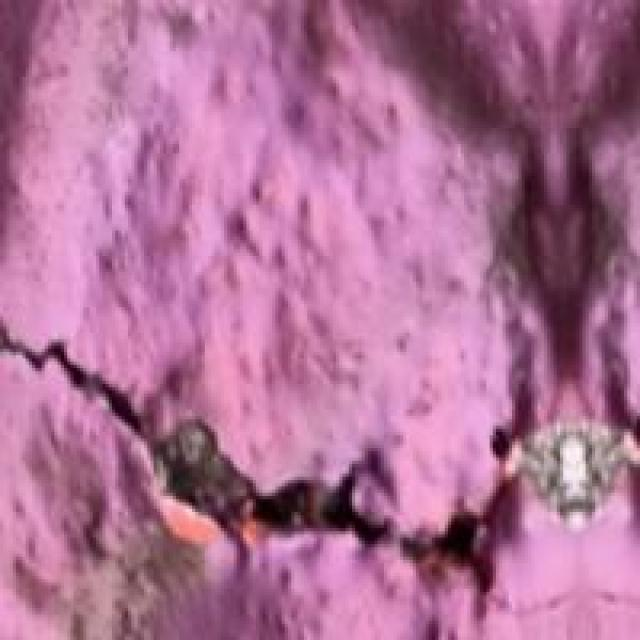Crack: (0, 256, 627, 637)
